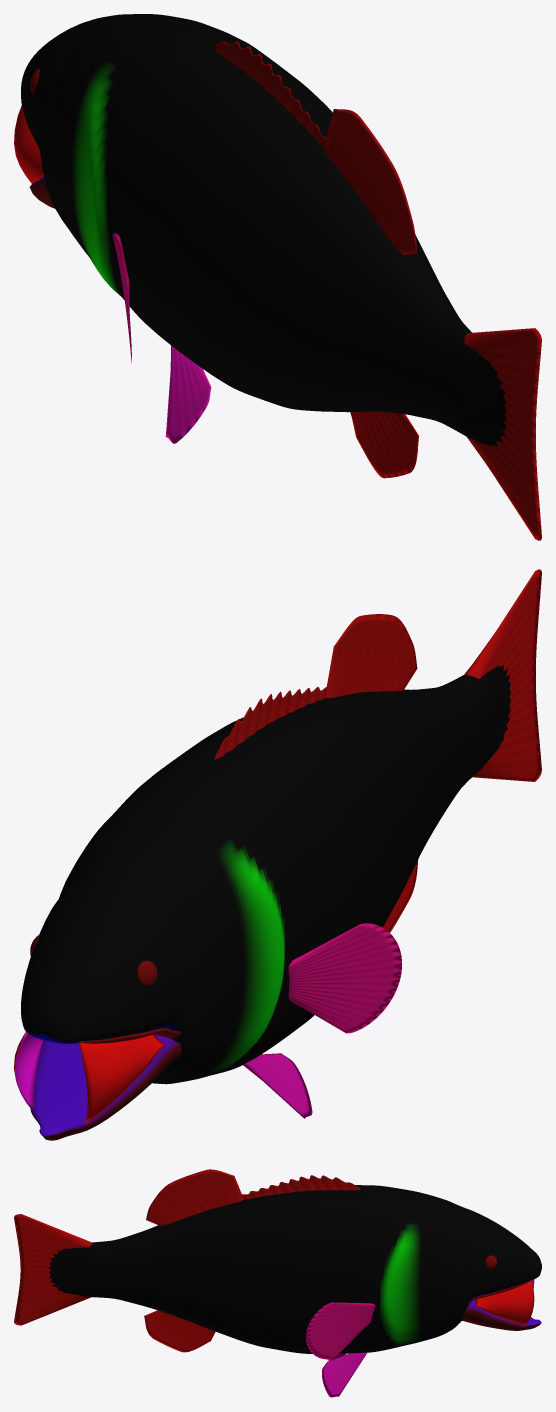
The model's file is giant_sea_bass.glb.
3 views of the same model, one above another, from view 1: azimuth 30°, elevation 25°; view 2: azimuth 150°, elevation 25°; view 3: azimuth 270°, elevation 25° (orthographic). The views are drawn at different scales.
Visible parts, largest first — view 1: giant_sea_bass; view 2: giant_sea_bass; view 3: giant_sea_bass.
Boxes of the visible parts, left/top/right/bottom form: giant_sea_bass: left=14, top=14, right=541, bottom=540; giant_sea_bass: left=14, top=569, right=541, bottom=1140; giant_sea_bass: left=14, top=1169, right=541, bottom=1397.
Bounding box in the file's own units: 0.6218 × 0.8683 × 1.98.
